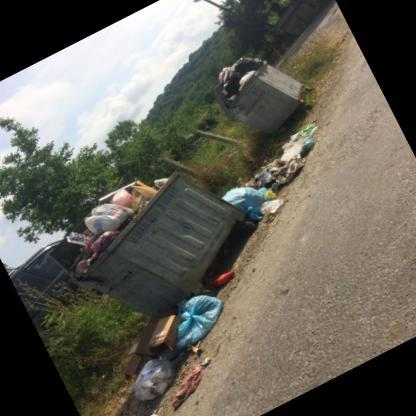Garbage: (85, 293, 249, 415), (99, 288, 248, 414), (42, 170, 166, 274), (217, 122, 330, 217), (236, 119, 334, 197), (200, 44, 271, 106), (205, 269, 234, 293)
